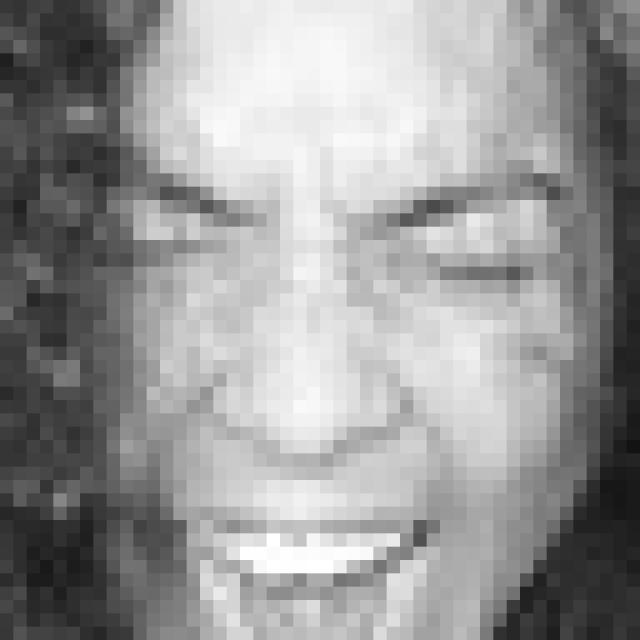angry: (84, 153, 569, 602)
